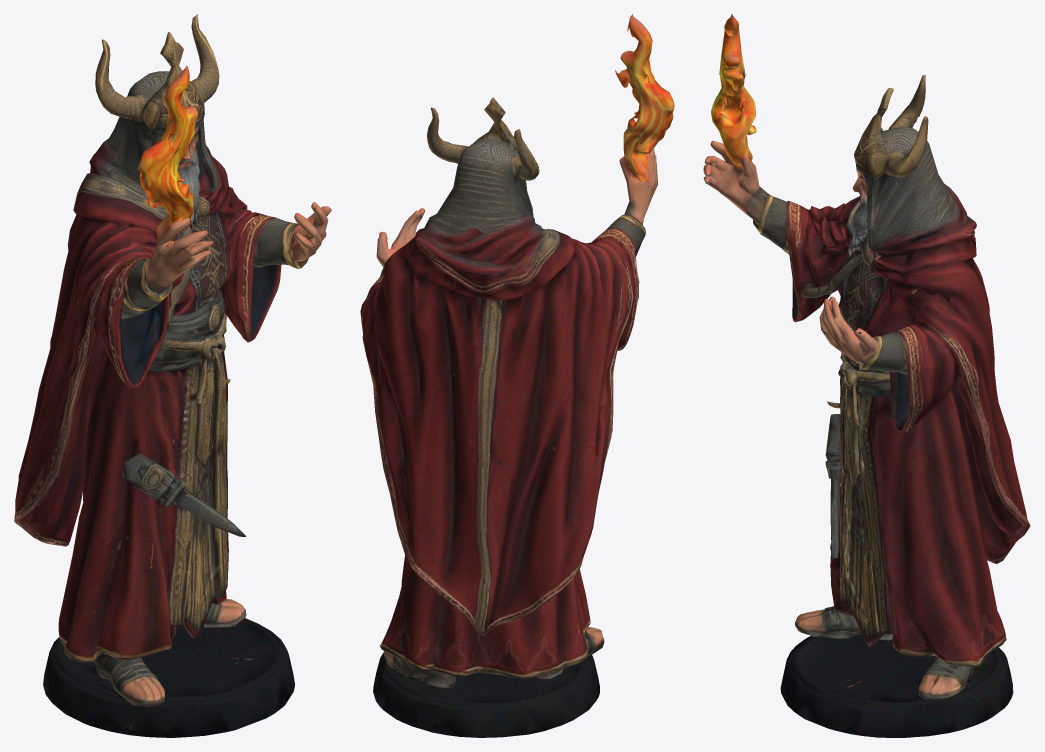
File: fire_mages.glb
The picture shows the model from 3 angles, left to right: view 1: azimuth 30°, elevation 25°; view 2: azimuth 150°, elevation 25°; view 3: azimuth 270°, elevation 25°; orthographic projection. The views are drawn at different scales.
Bounding box in the file's own units: 0.7709 × 1.9 × 0.876.
Materials: 1 (1 with a texture image).
